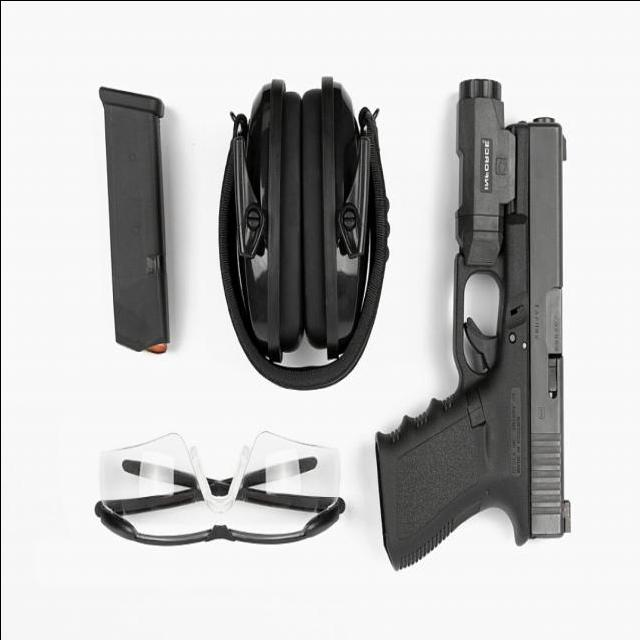pistol: (379, 33, 579, 592)
